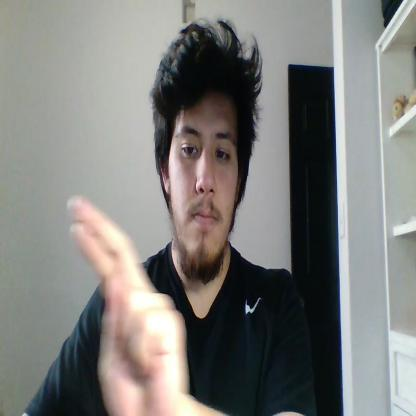R: (67, 195, 189, 415)
